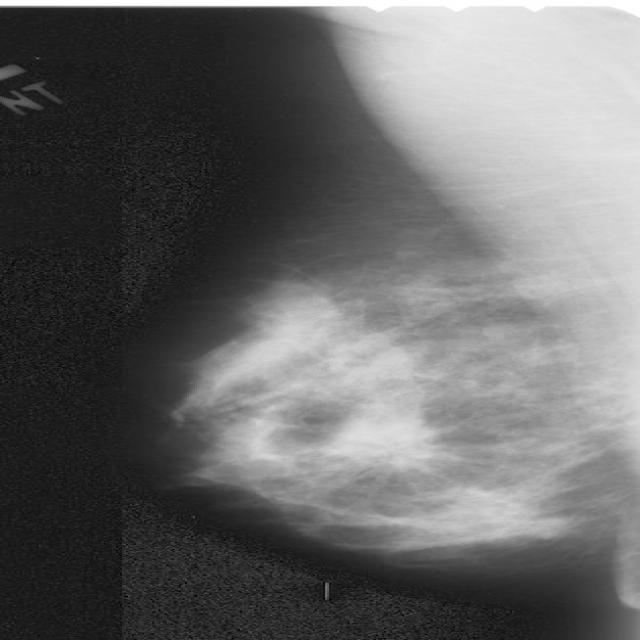tumour: (331, 408, 433, 468)
